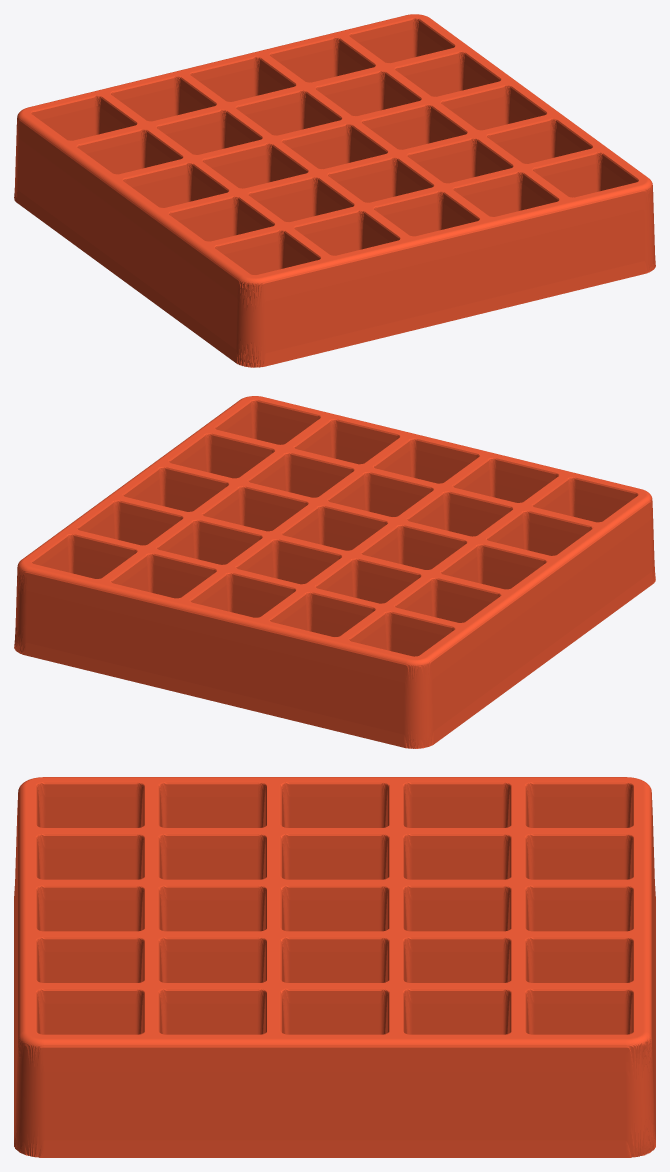
Rendered from mold.glb.
3 views of the same model, one above another, from view 1: azimuth 30°, elevation 25°; view 2: azimuth 150°, elevation 25°; view 3: azimuth 270°, elevation 25° (orthographic). The views are drawn at different scales.
Visible parts, largest first — view 1: geometry_0; view 2: geometry_0; view 3: geometry_0.
Part boxes in pixels (<box>): geometry_0: <box>14,14,655,367</box>; geometry_0: <box>14,396,655,748</box>; geometry_0: <box>14,777,655,1157</box>.
Bounding box in the file's own units: 0.193 × 0.0377 × 0.193.
